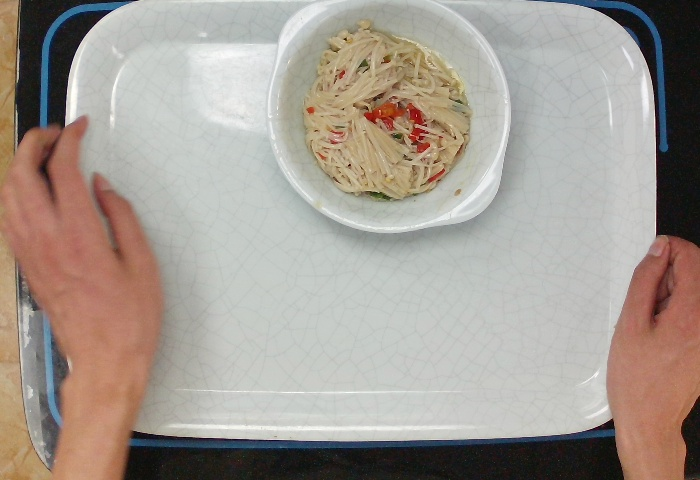JYsf-Shuang_Er_Wan: (263, 1, 513, 235)
